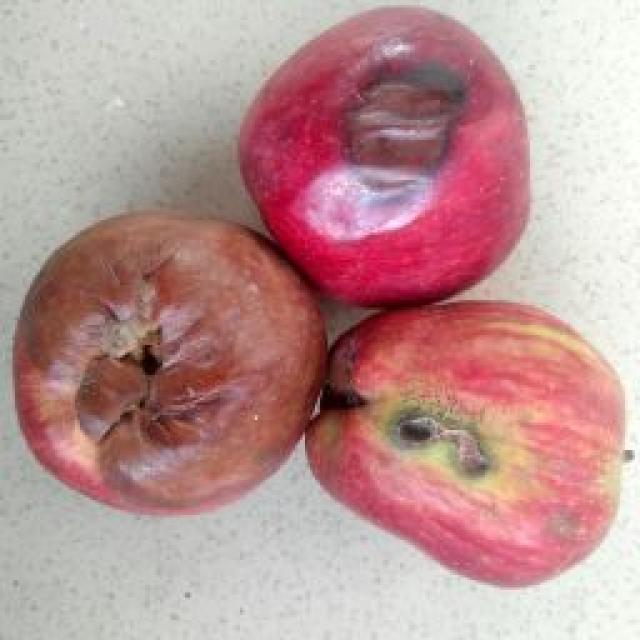Bad_Apple: (15, 214, 324, 513), (306, 302, 624, 586), (240, 9, 529, 306)
